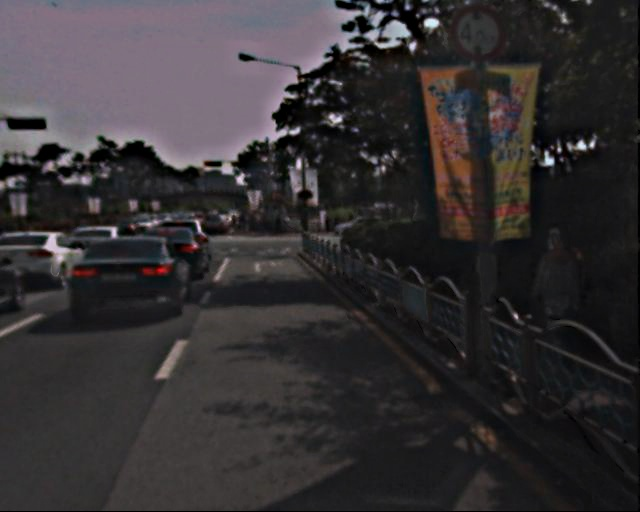person: (526, 221, 593, 373)
